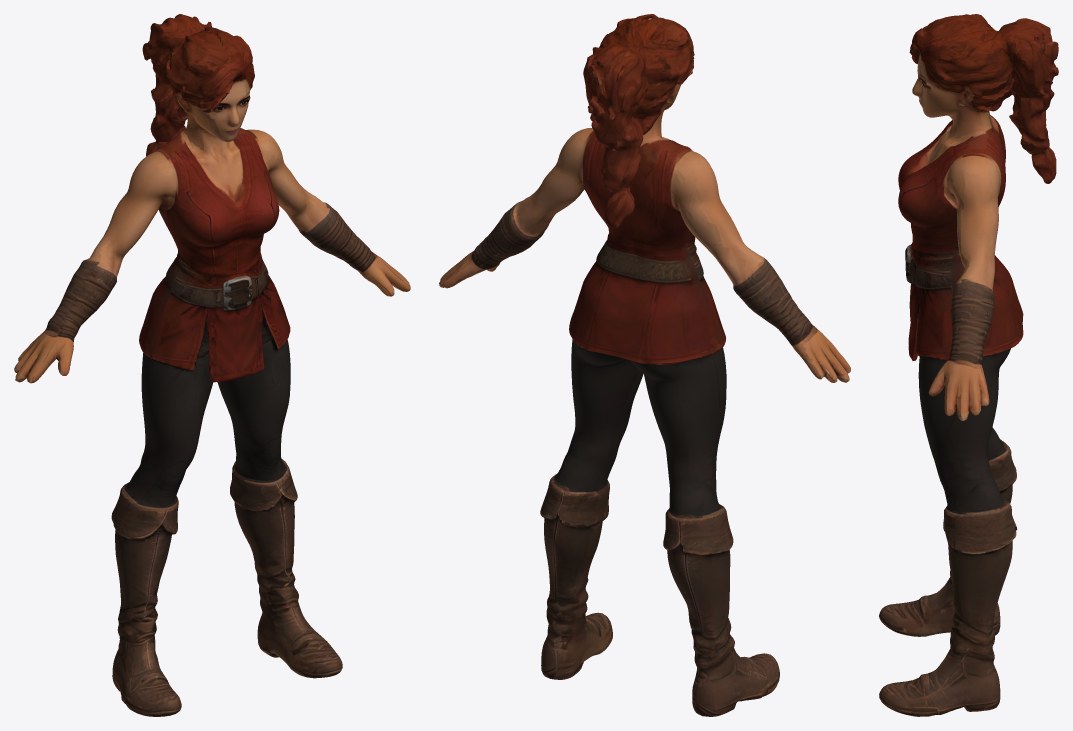
The model's file is wild_arrow_v2.glb.
3 renders of one model, left to right at view 1: azimuth 30°, elevation 25°; view 2: azimuth 150°, elevation 25°; view 3: azimuth 270°, elevation 25°, orthographic. The views are drawn at different scales.
Visible parts, largest first — view 1: textured_mesh.obj; view 2: textured_mesh.obj; view 3: textured_mesh.obj.
Boxes of the visible parts, left/top/right/bottom form: textured_mesh.obj: left=14, top=14, right=410, bottom=716; textured_mesh.obj: left=439, top=14, right=850, bottom=716; textured_mesh.obj: left=879, top=14, right=1058, bottom=716.
Size of the model in its own units: 1.28 by 1.99 by 0.4975.
1 material, 1 textured.
